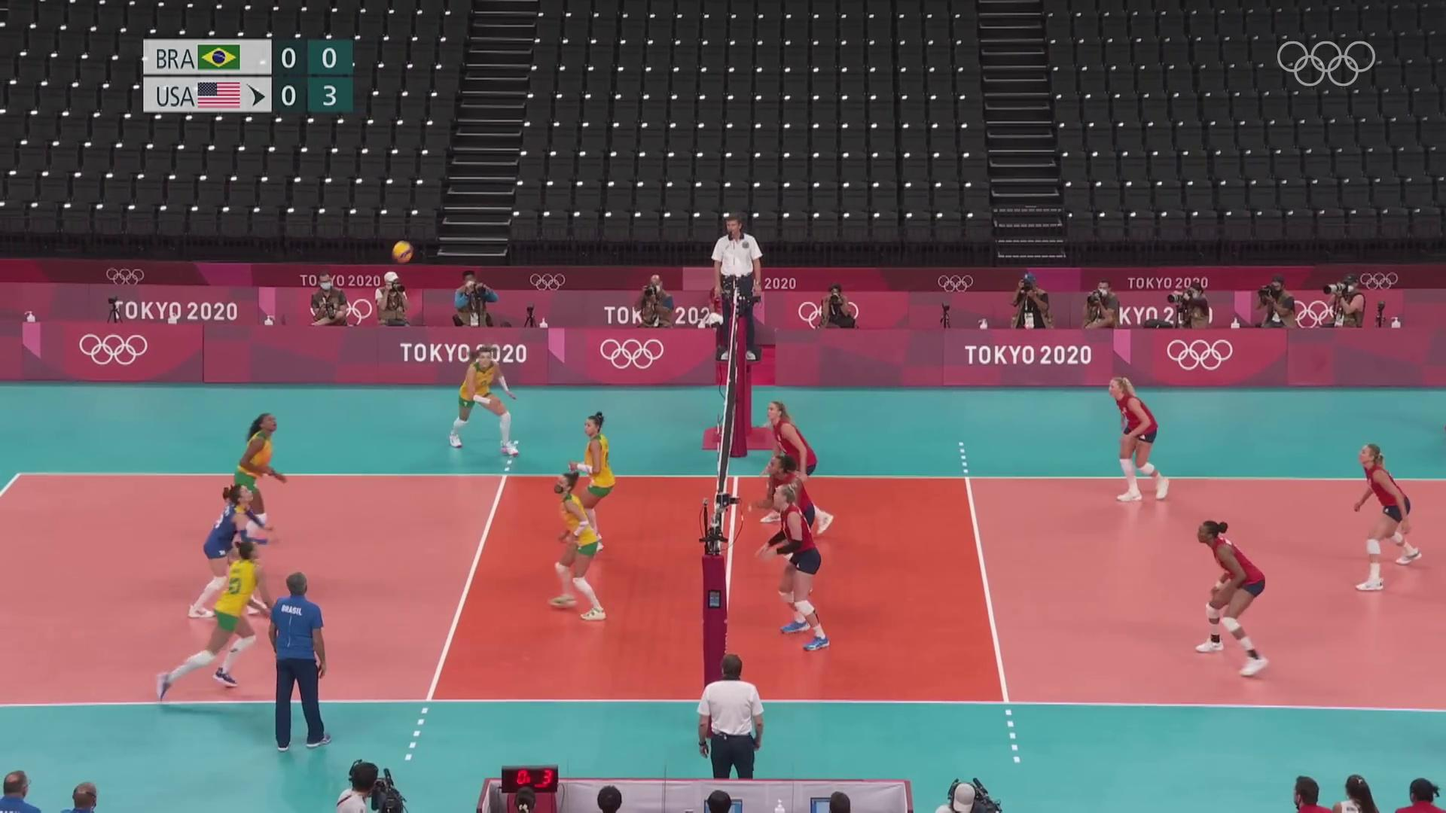player: (156, 542, 262, 696), (1193, 520, 1271, 674), (763, 484, 829, 653), (1352, 444, 1423, 593), (192, 486, 269, 623), (761, 400, 834, 534), (547, 473, 606, 624), (761, 455, 818, 606), (1103, 376, 1170, 502), (447, 345, 521, 459), (232, 415, 286, 565), (567, 412, 618, 557)
refree: (695, 655, 766, 787), (711, 216, 762, 364)
